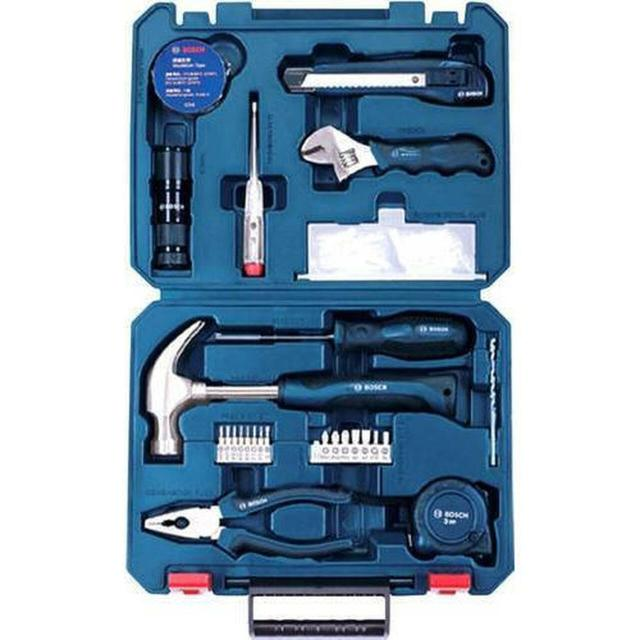Screwdriver: (212, 315, 474, 359), (242, 95, 265, 278)
